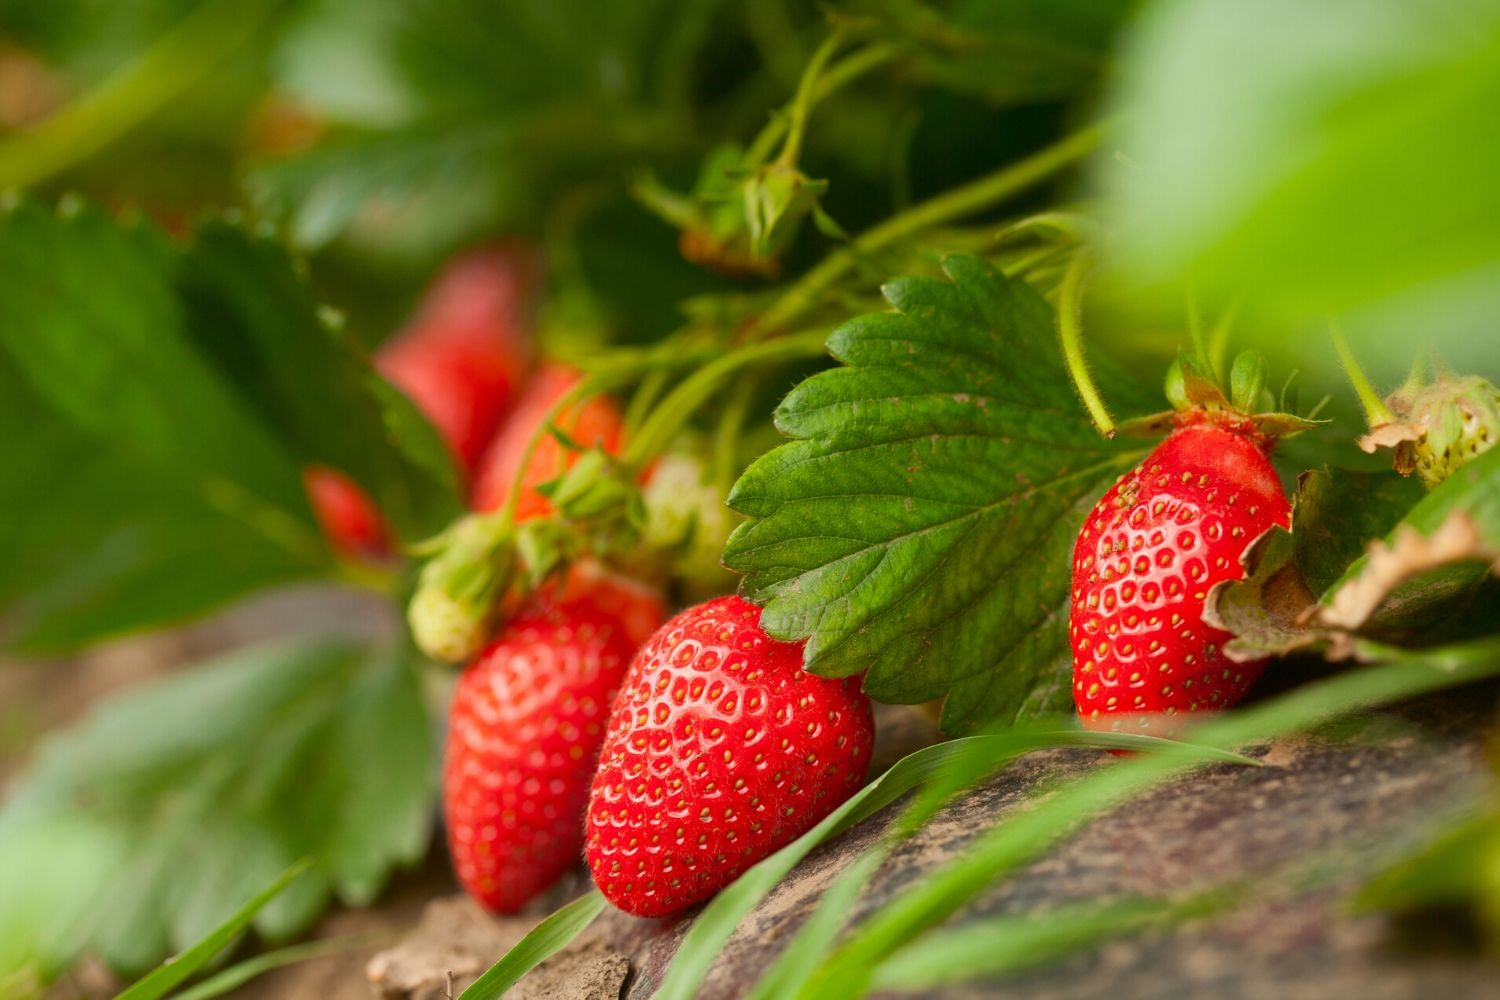ripe: (577, 593, 903, 925), (437, 546, 698, 926), (1052, 412, 1298, 762), (305, 235, 527, 556), (501, 342, 642, 561)
unripe: (633, 435, 768, 610), (403, 526, 507, 675), (1395, 368, 1500, 496)
